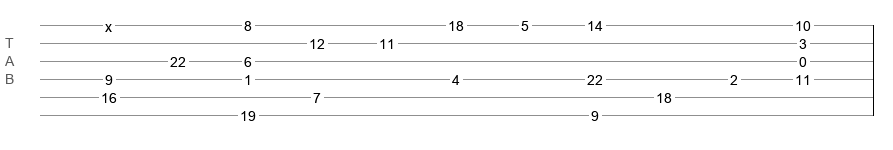0: (799, 54, 807, 64)
1: (244, 72, 252, 82)
10: (795, 18, 811, 28)
11: (379, 36, 395, 46), (795, 72, 811, 82)
12: (309, 36, 325, 46)
14: (587, 18, 603, 28)
16: (101, 90, 117, 100)
18: (448, 18, 464, 28), (656, 90, 672, 100)
19: (240, 108, 256, 118)
2: (730, 72, 738, 82)
22: (170, 54, 186, 64), (587, 72, 603, 82)
3: (799, 36, 807, 46)
4: (452, 72, 460, 82)
5: (521, 18, 529, 28)
6: (244, 54, 252, 64)
7: (313, 90, 321, 100)
8: (244, 18, 252, 28)
9: (105, 72, 113, 82), (591, 108, 599, 118)
x: (105, 19, 112, 27)
